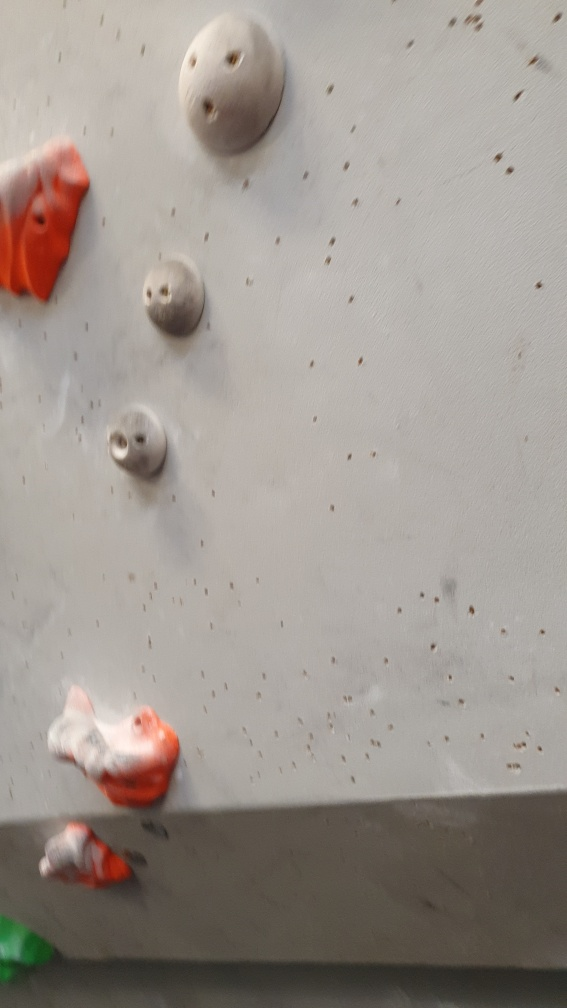Hand Start: (121, 838, 150, 871), (140, 815, 171, 844)
Jug: (1, 132, 98, 308), (45, 682, 176, 811), (36, 820, 137, 896)
Sloper: (178, 10, 288, 161), (138, 249, 210, 340), (104, 401, 171, 481)
